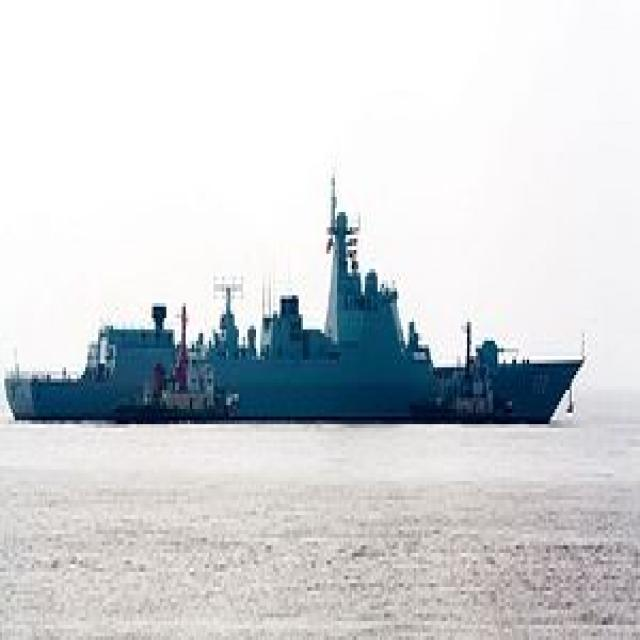Destroyer-Luyang-III-class-052-CHI: (0, 167, 587, 423)
